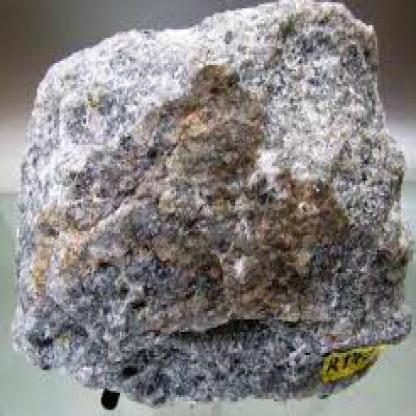Metamorphic_Quartize: (15, 4, 409, 397)
